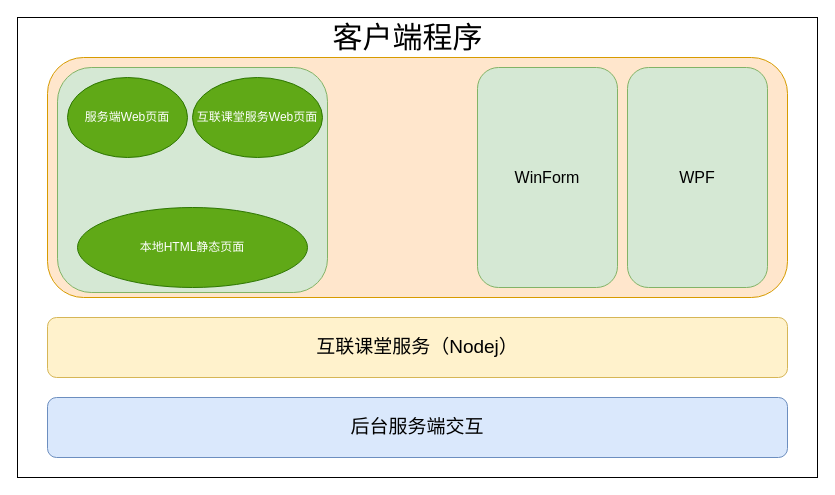
Some shapes in this 835 by 495 pixel diagram are drawn without their labels. The shapes that lost their labels are listed below. From the top down, each one's box as (x1, y1, x2, y2) in pixels, then its label:
(56, 66, 328, 292): CEF 浏览器内核
(46, 56, 788, 298): 用户界面
